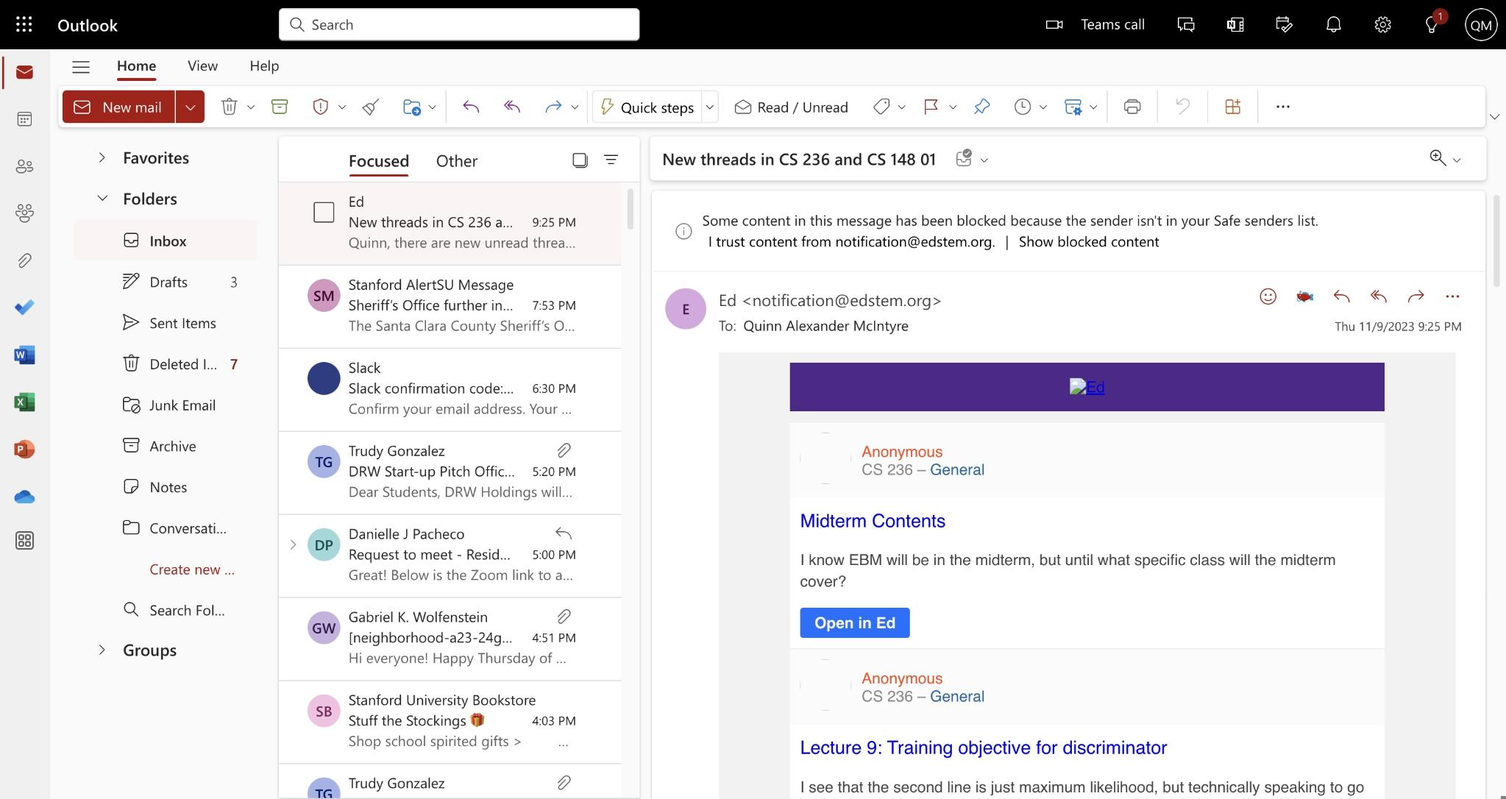webelement: (641, 128, 1506, 798), (718, 352, 1455, 799), (278, 182, 639, 797), (57, 128, 276, 798), (50, 48, 1506, 127), (0, 0, 1505, 48), (278, 431, 621, 514), (278, 514, 621, 597), (278, 597, 621, 680), (278, 182, 621, 264), (278, 265, 621, 347), (278, 348, 621, 430), (278, 681, 621, 763), (592, 86, 1103, 126), (3, 48, 44, 520), (945, 280, 1474, 312), (348, 627, 1154, 646), (62, 86, 441, 126), (718, 312, 1320, 337), (278, 764, 621, 799), (702, 210, 1318, 229), (73, 136, 256, 177), (73, 260, 256, 301), (73, 424, 256, 465), (73, 588, 256, 629), (73, 178, 256, 218), (73, 219, 256, 259), (73, 301, 256, 341), (73, 342, 256, 382), (73, 383, 256, 423), (73, 465, 256, 505), (73, 506, 256, 546), (73, 547, 256, 587), (73, 629, 256, 669), (309, 12, 627, 33), (100, 48, 294, 80), (661, 146, 935, 168), (348, 294, 654, 313), (702, 231, 1005, 250), (348, 461, 647, 480), (451, 86, 582, 126), (1041, 0, 1148, 48), (718, 288, 943, 310), (348, 231, 575, 251), (348, 397, 575, 417), (348, 480, 575, 500), (348, 563, 575, 583), (348, 646, 575, 666), (348, 729, 575, 749), (348, 211, 585, 230), (722, 90, 861, 122), (348, 377, 569, 397), (348, 315, 575, 334), (348, 544, 575, 563), (348, 689, 535, 709), (62, 90, 175, 122), (740, 315, 911, 334), (593, 91, 700, 121), (800, 510, 945, 532), (348, 274, 513, 293), (1013, 231, 1165, 250), (57, 0, 117, 48), (348, 136, 408, 181), (348, 606, 487, 625), (800, 432, 851, 483), (348, 710, 484, 729), (121, 145, 237, 167), (121, 186, 237, 208), (121, 637, 237, 659), (1211, 0, 1260, 48), (1358, 0, 1407, 48), (1407, 0, 1456, 48), (0, 0, 48, 48), (1162, 0, 1210, 48), (1260, 0, 1308, 48), (1309, 0, 1357, 48), (1457, 0, 1505, 48), (348, 523, 463, 542), (422, 143, 489, 175), (435, 136, 476, 181), (348, 440, 444, 459), (348, 773, 444, 792), (149, 558, 237, 578), (348, 793, 635, 799), (3, 146, 44, 187), (3, 193, 44, 234), (3, 240, 44, 281), (3, 287, 44, 328), (3, 334, 44, 375), (3, 382, 44, 423), (3, 429, 44, 470), (3, 476, 44, 517), (149, 435, 237, 454), (3, 52, 44, 92), (3, 99, 44, 139), (3, 521, 44, 561), (665, 287, 705, 328), (1423, 141, 1474, 173), (391, 90, 441, 122), (861, 90, 911, 122), (1002, 90, 1052, 122), (1053, 90, 1103, 122), (1263, 86, 1303, 126), (149, 230, 232, 249), (149, 312, 232, 331), (149, 394, 232, 413), (149, 476, 232, 495), (149, 517, 232, 536), (149, 599, 232, 618), (757, 98, 848, 114), (112, 49, 160, 79), (862, 441, 942, 459), (60, 50, 100, 84), (149, 271, 219, 290), (149, 353, 219, 372), (961, 90, 1002, 122), (1162, 90, 1203, 122), (307, 195, 348, 227), (259, 90, 299, 122), (350, 90, 390, 122), (451, 90, 491, 122), (492, 90, 532, 122), (1112, 90, 1152, 122), (1213, 90, 1253, 122), (944, 146, 994, 169), (183, 49, 221, 79), (245, 49, 283, 79), (208, 90, 242, 122), (299, 90, 333, 122), (911, 90, 945, 122), (533, 90, 566, 122), (307, 361, 339, 394), (307, 444, 339, 477), (1251, 280, 1284, 312), (1288, 280, 1321, 312), (1399, 280, 1432, 312), (307, 278, 339, 310), (307, 528, 339, 560), (307, 611, 339, 643), (307, 694, 339, 726), (1326, 280, 1358, 312), (1363, 280, 1395, 312), (1436, 280, 1468, 312), (515, 544, 575, 561), (930, 459, 983, 478), (88, 136, 114, 174), (88, 178, 114, 215), (88, 629, 114, 666), (515, 213, 575, 229), (515, 296, 575, 312), (515, 379, 575, 395), (515, 462, 575, 478), (515, 628, 575, 644), (515, 711, 575, 727), (594, 144, 627, 173), (102, 98, 160, 114), (175, 90, 204, 122), (1080, 16, 1144, 30), (565, 144, 594, 173), (15, 0, 32, 48), (665, 296, 705, 316), (1227, 0, 1243, 48), (1276, 0, 1292, 48), (1374, 0, 1390, 48), (1424, 0, 1440, 48), (1273, 87, 1293, 125), (307, 777, 339, 799), (1069, 378, 1103, 396), (269, 91, 289, 121), (360, 91, 380, 121), (461, 91, 481, 121), (502, 91, 522, 121), (1122, 91, 1142, 121), (1172, 91, 1192, 121), (1223, 91, 1243, 121), (348, 357, 379, 376), (972, 91, 991, 121), (116, 58, 156, 72), (566, 90, 583, 122), (242, 90, 258, 122), (333, 90, 349, 122), (945, 90, 961, 122), (700, 91, 717, 121), (180, 95, 200, 117), (187, 58, 217, 72), (249, 58, 279, 72), (313, 201, 333, 221), (14, 62, 33, 82), (14, 109, 33, 129), (14, 156, 33, 176), (14, 203, 33, 223), (14, 297, 33, 317), (14, 344, 33, 364), (14, 391, 33, 411), (14, 438, 33, 458), (14, 485, 33, 505), (14, 531, 33, 551), (14, 251, 33, 270), (1485, 106, 1503, 126), (278, 182, 282, 264), (278, 264, 282, 346), (278, 514, 282, 596), (278, 597, 282, 679), (278, 680, 282, 762), (278, 348, 282, 429), (278, 431, 282, 512), (718, 315, 735, 334), (348, 191, 363, 210), (1432, 7, 1448, 24), (566, 98, 583, 114), (1296, 288, 1313, 304), (242, 98, 258, 114), (333, 98, 349, 114), (945, 98, 961, 114), (284, 536, 300, 552), (515, 795, 575, 799), (317, 205, 330, 219), (228, 353, 237, 372), (278, 764, 282, 799), (230, 271, 237, 290), (1005, 231, 1012, 250), (1005, 231, 1008, 250)
